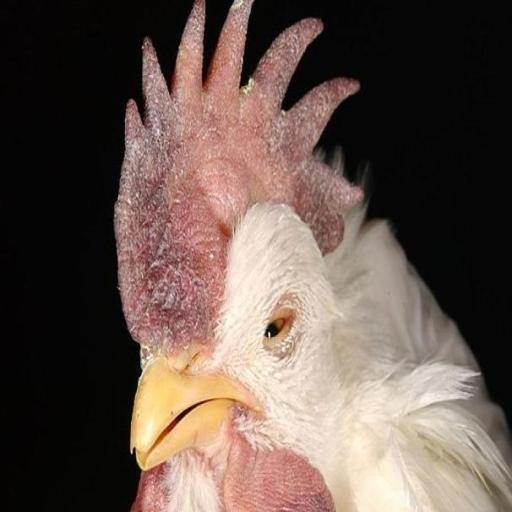disease: (74, 5, 365, 350), (247, 282, 327, 364)
